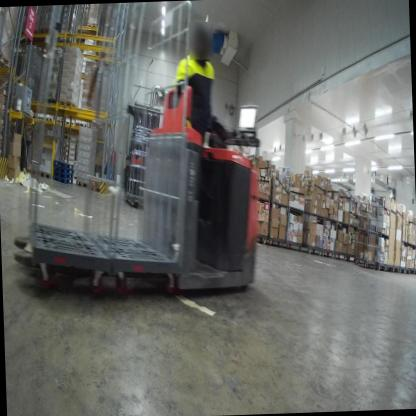pallet: (58, 95, 79, 112), (0, 49, 16, 71), (53, 158, 73, 172), (52, 162, 75, 174), (52, 173, 74, 184), (86, 22, 100, 37), (52, 169, 71, 180), (75, 179, 91, 192), (37, 168, 52, 181), (38, 27, 54, 39), (44, 96, 59, 107), (25, 166, 40, 176), (87, 184, 100, 195), (74, 121, 88, 130), (64, 119, 75, 129), (86, 177, 101, 184), (44, 115, 54, 124), (55, 116, 65, 125), (69, 131, 77, 137)
pallet_truck: (4, 87, 275, 312)
